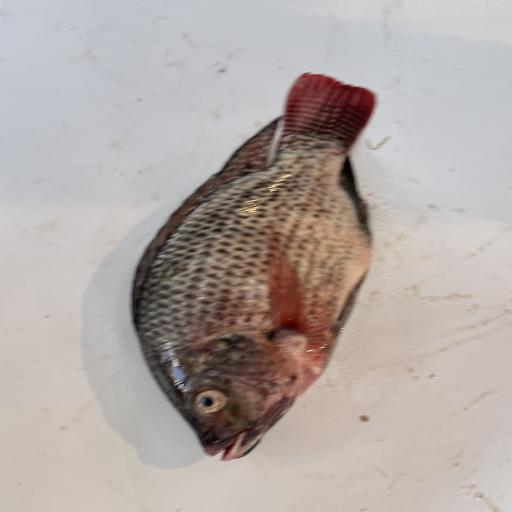Tilapia: (130, 72, 378, 461)
